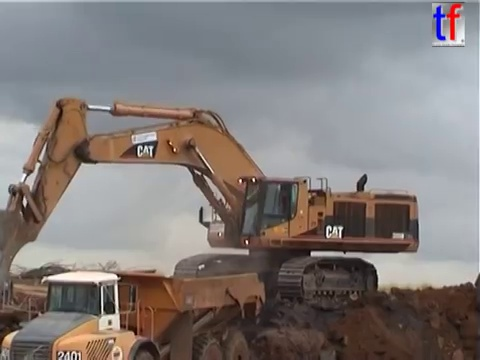excavator: (1, 94, 423, 313)
truck: (1, 266, 268, 360)
